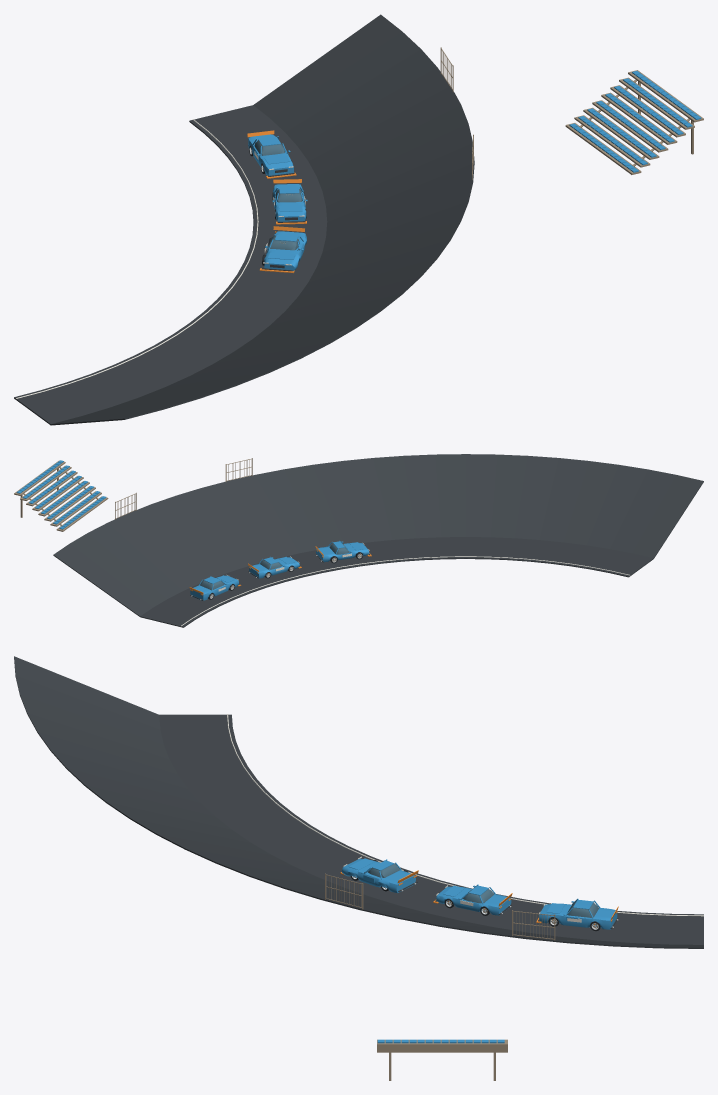
The model's file is stock-car-oval-speedway-turn-one-two-c8af9952-starter-scene__16960.glb.
3 renders of one model, top to bottom at view 1: azimuth 30°, elevation 25°; view 2: azimuth 150°, elevation 25°; view 3: azimuth 270°, elevation 25°, orthographic. The views are drawn at different scales.
Parts seen in each view (by area): view 1: 000-banked-turn-quarter/1, 006-main-grandstand-tier/0, 006-main-grandstand-tier/1, 003-dirt-super-late-model/0, 001-stock-car/0, 002-asphalt-late-model/0, 000-banked-turn-quarter/0; view 2: 000-banked-turn-quarter/1, 006-main-grandstand-tier/0, 006-main-grandstand-tier/1, 000-banked-turn-quarter/0, 003-dirt-super-late-model/0, 001-stock-car/0, 002-asphalt-late-model/0, 005-catch-fence-panel/0; view 3: 000-banked-turn-quarter/1, 006-main-grandstand-tier/0, 001-stock-car/0, 003-dirt-super-late-model/0, 002-asphalt-late-model/0.
Part boxes in pixels (<box>): 000-banked-turn-quarter/1: <box>14,14,474,425</box>; 006-main-grandstand-tier/0: <box>565,70,703,174</box>; 006-main-grandstand-tier/1: <box>569,71,701,172</box>; 003-dirt-super-late-model/0: <box>264,231,306,271</box>; 001-stock-car/0: <box>248,134,293,175</box>; 002-asphalt-late-model/0: <box>272,184,307,221</box>; 000-banked-turn-quarter/0: <box>16,119,258,398</box>; 000-banked-turn-quarter/1: <box>53,454,703,627</box>; 006-main-grandstand-tier/0: <box>14,460,108,531</box>; 006-main-grandstand-tier/1: <box>16,460,106,529</box>; 000-banked-turn-quarter/0: <box>181,556,630,626</box>; 003-dirt-super-late-model/0: <box>316,540,369,562</box>; 001-stock-car/0: <box>190,575,238,600</box>; 002-asphalt-late-model/0: <box>249,556,299,578</box>; 005-catch-fence-panel/0: <box>225,458,252,481</box>; 000-banked-turn-quarter/1: <box>14,656,703,948</box>; 006-main-grandstand-tier/0: <box>377,1039,507,1080</box>; 001-stock-car/0: <box>539,898,617,929</box>; 003-dirt-super-late-model/0: <box>342,858,415,893</box>; 002-asphalt-late-model/0: <box>436,884,511,915</box>.
Size of the model in its own units: 59.83 by 6.51 by 47.5.
